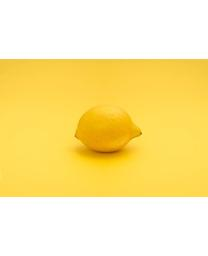lemon: (75, 106, 142, 152)
